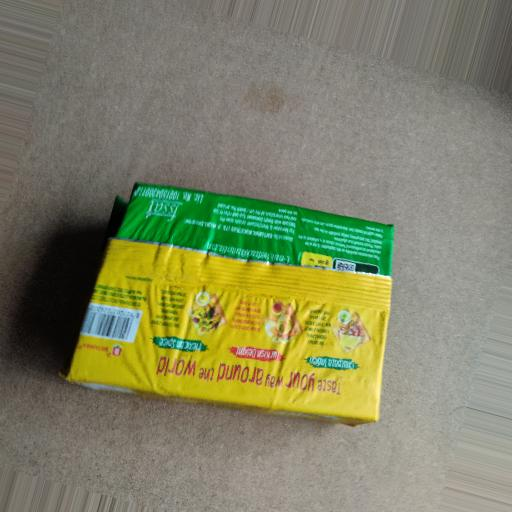Britannia Nutri-choice: (36, 156, 453, 459)
